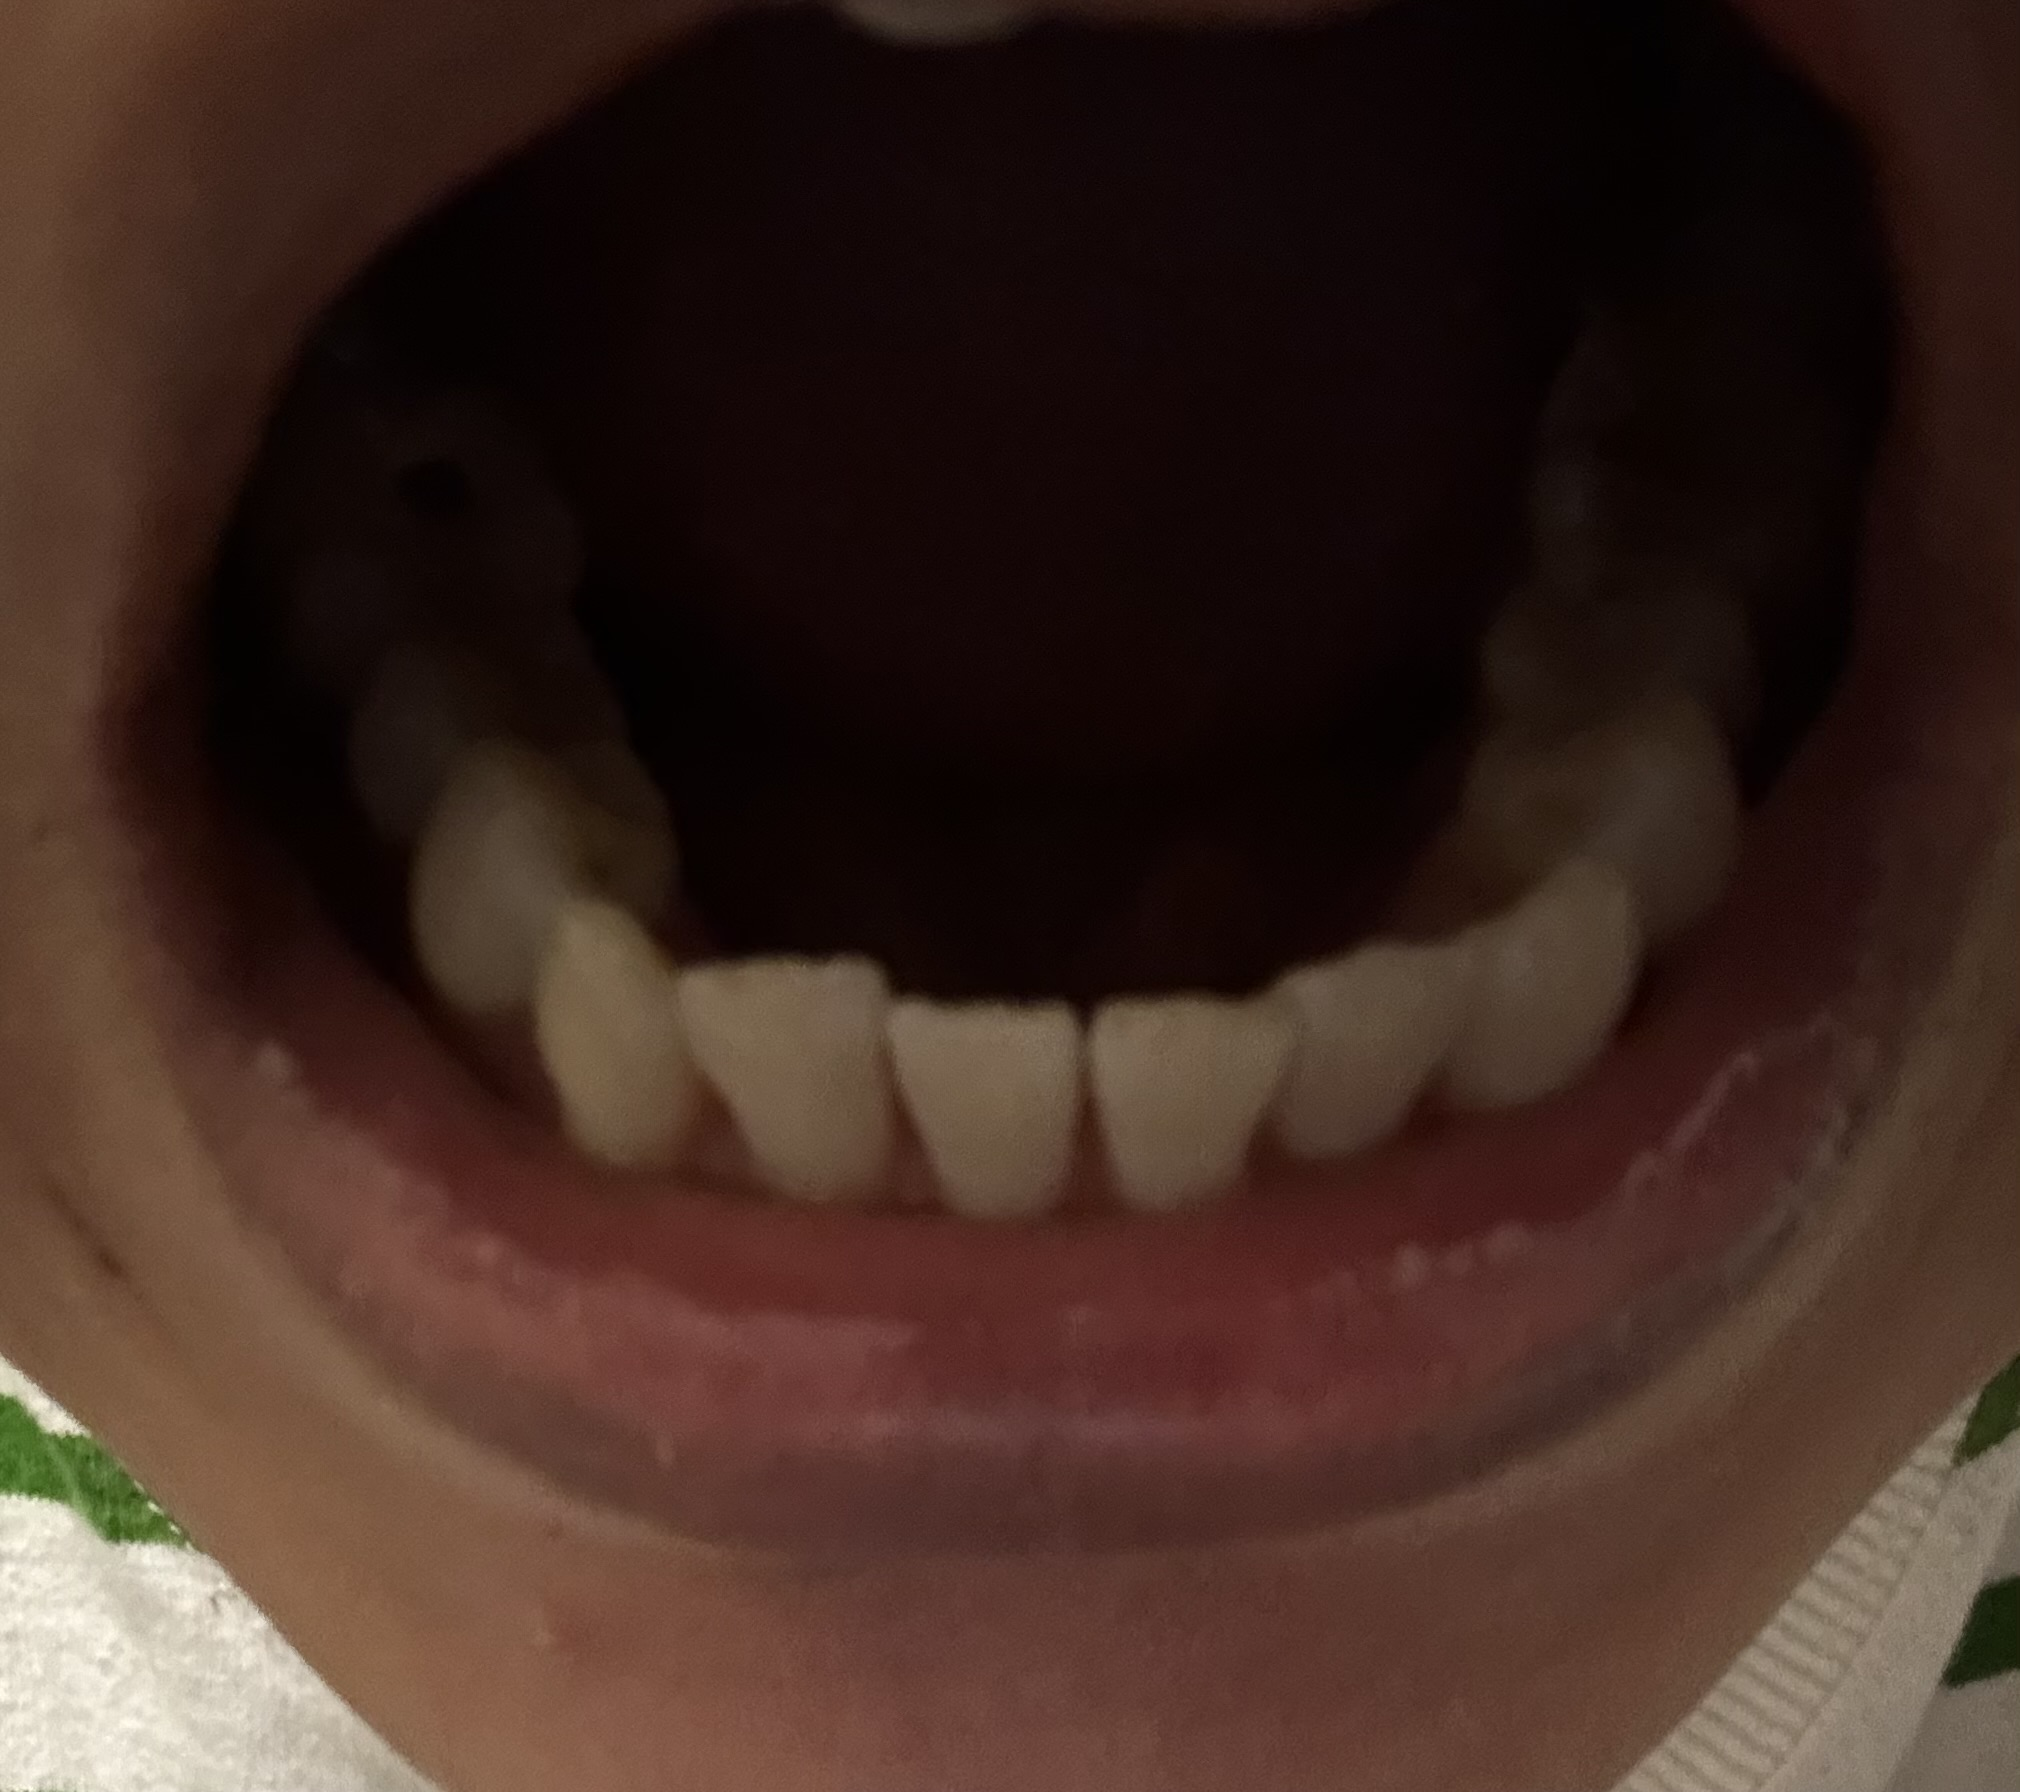teeth: (400, 737, 654, 1010), (688, 981, 880, 1195), (1110, 1015, 1297, 1209), (536, 929, 680, 1157), (1479, 884, 1622, 1102), (892, 1010, 1058, 1195), (1306, 955, 1475, 1135)
